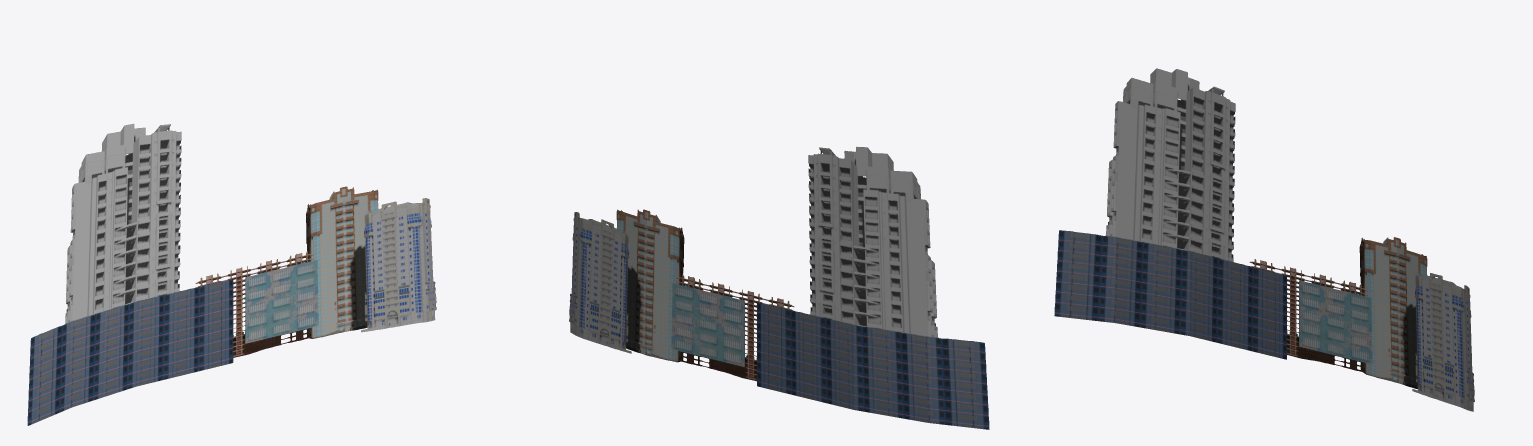
File: FromBipulViewBackGround.fbx
3 renders of one model, left to right at view 1: azimuth 30°, elevation 25°; view 2: azimuth 150°, elevation 25°; view 3: azimuth 330°, elevation 25°, orthographic.
Visible parts, largest first — view 1: Plane.001; view 2: Plane.001; view 3: Plane.001.
Boxes of the visible parts, x1,y1,x2,y2 form: Plane.001: (27, 123, 436, 425); Plane.001: (569, 146, 989, 429); Plane.001: (1054, 68, 1474, 411).
Size of the model in its own units: 8067 by 4791 by 461.
